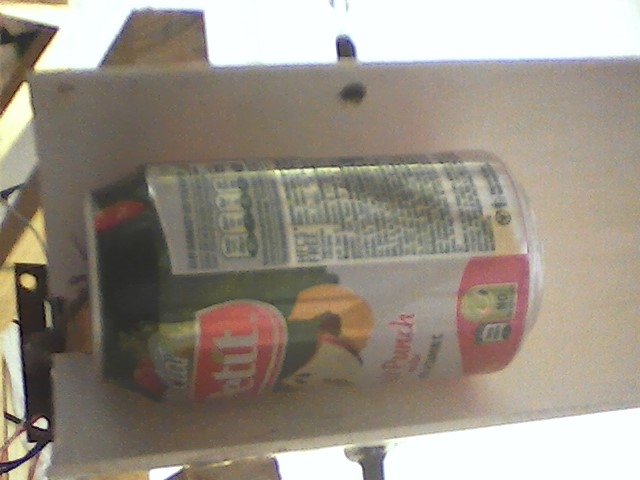lata: (77, 144, 549, 413)
